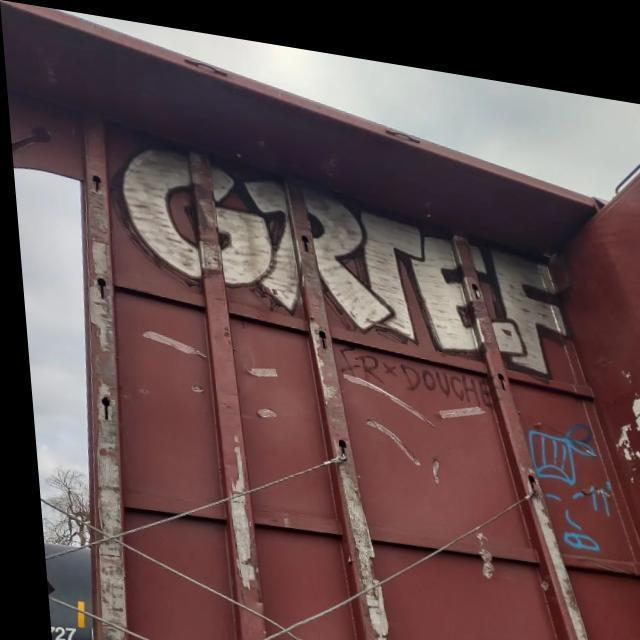nonspitting: (122, 143, 568, 378), (526, 422, 613, 554), (345, 346, 503, 411)
